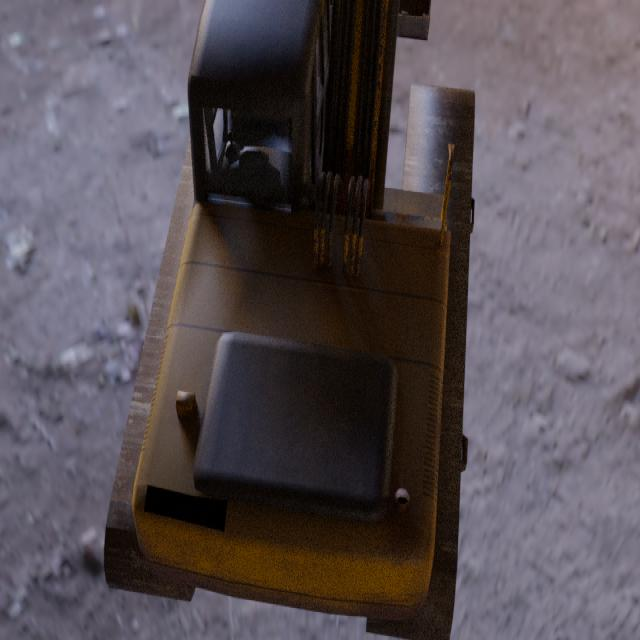excavator: (103, 0, 475, 640)
